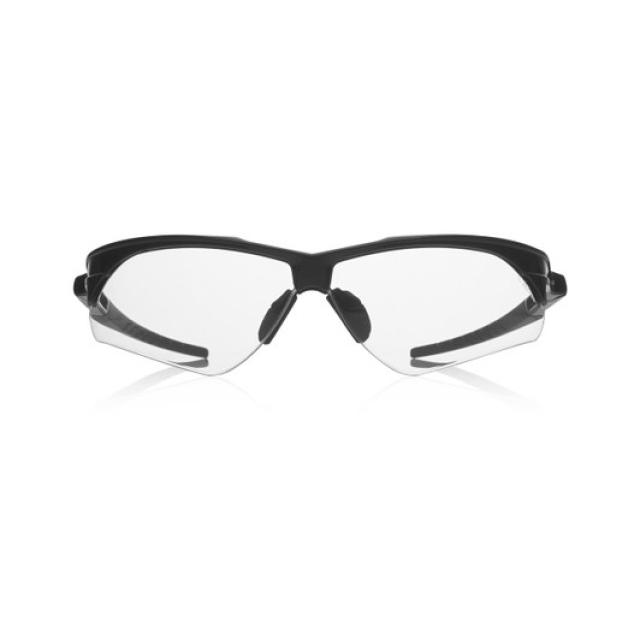goggles: (59, 232, 563, 383)
